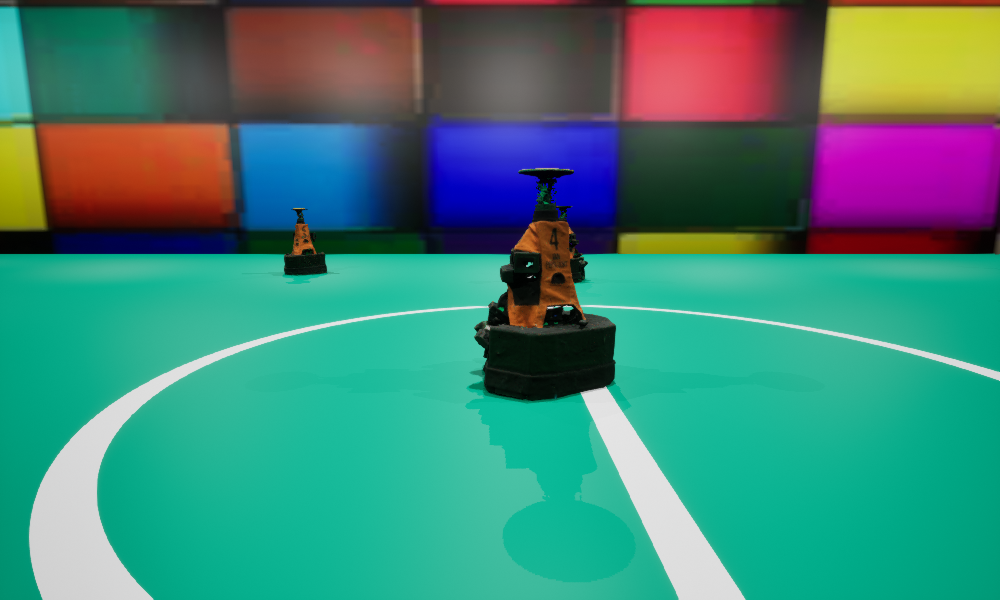0 orange robot TechUnited: (474, 168, 615, 399), (284, 208, 326, 274), (556, 206, 587, 282)
